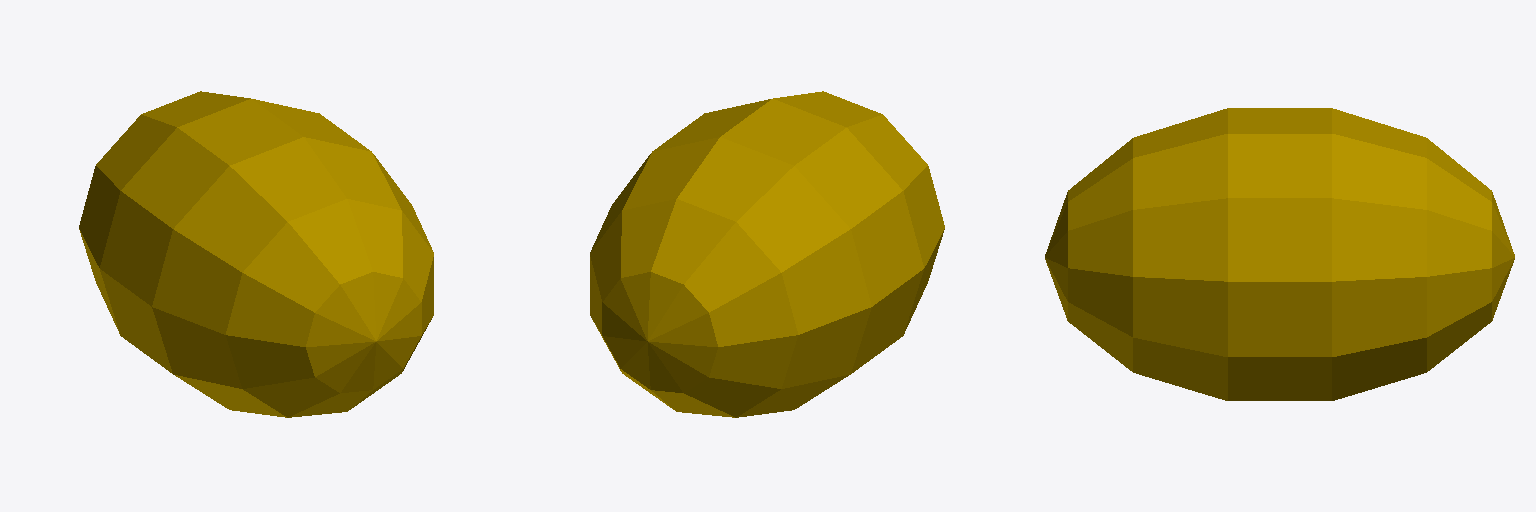
The model's file is GunFlame1.obj.
3 views of the same model, side by side, from view 1: azimuth 30°, elevation 25°; view 2: azimuth 150°, elevation 25°; view 3: azimuth 270°, elevation 25° (orthographic).
Visible parts, largest first — view 1: GunFlame1; view 2: GunFlame1; view 3: GunFlame1.
Boxes of the visible parts, x1,y1,x2,y2 form: GunFlame1: [79, 91, 433, 417]; GunFlame1: [590, 91, 944, 417]; GunFlame1: [1045, 108, 1514, 400].
Size of the model in its own units: 1.98 by 1.93 by 3.1.